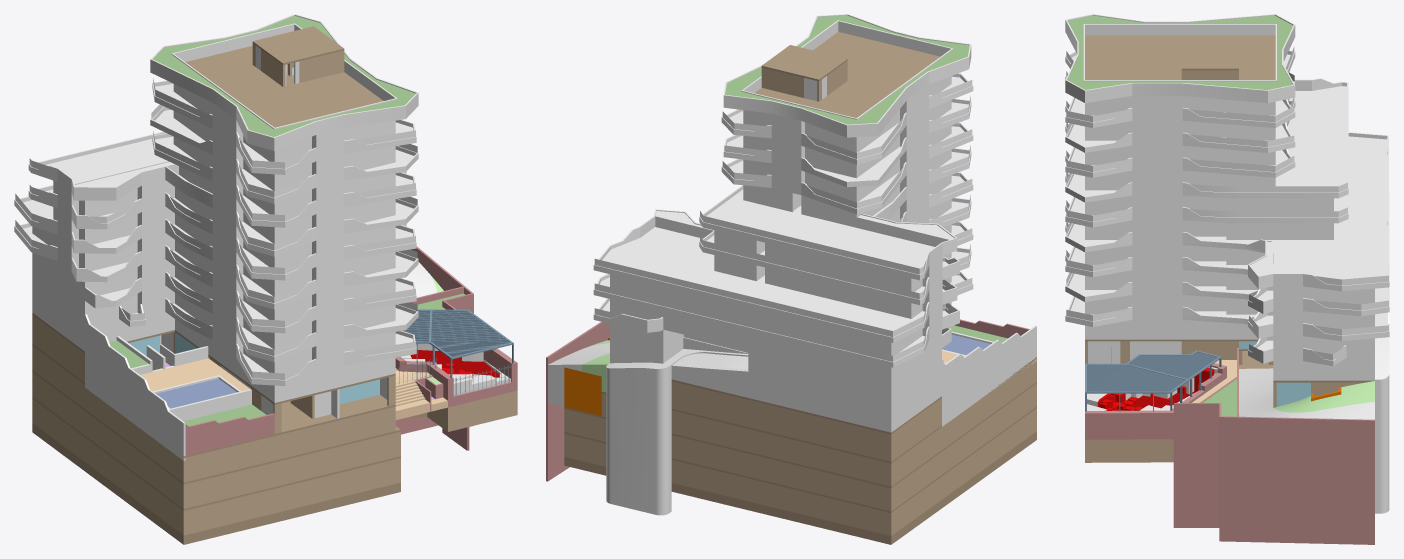
The model's file is skyway-floors.glb.
3 renders of one model, left to right at view 1: azimuth 30°, elevation 25°; view 2: azimuth 150°, elevation 25°; view 3: azimuth 270°, elevation 25°, orthographic. The views are drawn at different scales.
Visible parts, largest first — view 1: Obj_Layer:BETON, Layer:3, Layer:PLAKA, Layer:7, Layer:5, Layer:4, Layer:6, Layer:1, Layer:ARX-TOIXOS, Layer:9, Layer:10, Layer:8 (+11 smaller); view 2: Obj_Layer:BETON, Layer:3, Layer:5, Layer:1, Layer:PLAKA, Layer:7, Layer:4, Layer:6, Layer:10, Layer:8, Layer:9, Layer:EKS-STITHAIA (+6 smaller); view 3: Layer:ARX-TOIXOS, Layer:5, Layer:3, Layer:7, Layer:PLAKA, Layer:4, Layer:1, Layer:6, Layer:EKS-STITHAIA, Layer:10, Layer:8, Layer:9 (+12 smaller).
Part boxes in pixels (box(x1,y1,x2,y2)): Obj_Layer:BETON: box(32, 43, 517, 535); Layer:3: box(32, 224, 418, 460); Layer:PLAKA: box(32, 26, 400, 544); Layer:7: box(28, 131, 418, 256); Layer:5: box(14, 171, 418, 309); Layer:4: box(14, 220, 416, 333); Layer:6: box(28, 180, 416, 280); Layer:1: box(32, 288, 395, 402); Layer:ARX-TOIXOS: box(185, 246, 517, 455); Layer:9: box(150, 104, 418, 203); Layer:10: box(152, 67, 416, 174); Layer:8: box(152, 131, 416, 227); Obj_Layer:BETON: box(564, 61, 1036, 535); Layer:3: box(593, 244, 1036, 426); Layer:5: box(593, 195, 971, 342); Layer:1: box(606, 302, 951, 515); Layer:PLAKA: box(564, 32, 1036, 544); Layer:7: box(699, 145, 971, 280); Layer:4: box(593, 221, 973, 367); Layer:6: box(699, 172, 973, 304); Layer:10: box(721, 73, 973, 164); Layer:8: box(721, 122, 973, 214); Layer:9: box(723, 96, 971, 187); Layer:EKS-STITHAIA: box(723, 14, 971, 136); Layer:ARX-TOIXOS: box(1085, 348, 1374, 544); Layer:5: box(1065, 132, 1389, 291); Layer:3: box(1065, 222, 1389, 366); Layer:7: box(1065, 78, 1348, 202); Layer:PLAKA: box(1085, 35, 1374, 382); Layer:4: box(1065, 200, 1389, 316); Layer:1: box(1085, 319, 1389, 513); Layer:6: box(1065, 150, 1348, 227); Layer:EKS-STITHAIA: box(1065, 14, 1295, 102); Layer:10: box(1065, 46, 1295, 127); Layer:8: box(1065, 98, 1295, 177); Layer:9: box(1065, 71, 1295, 152).
Bounding box in the file's own units: 42.81 × 45.46 × 33.07.
